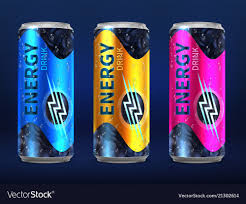can: (168, 22, 225, 163), (17, 22, 73, 163), (93, 22, 149, 163)
